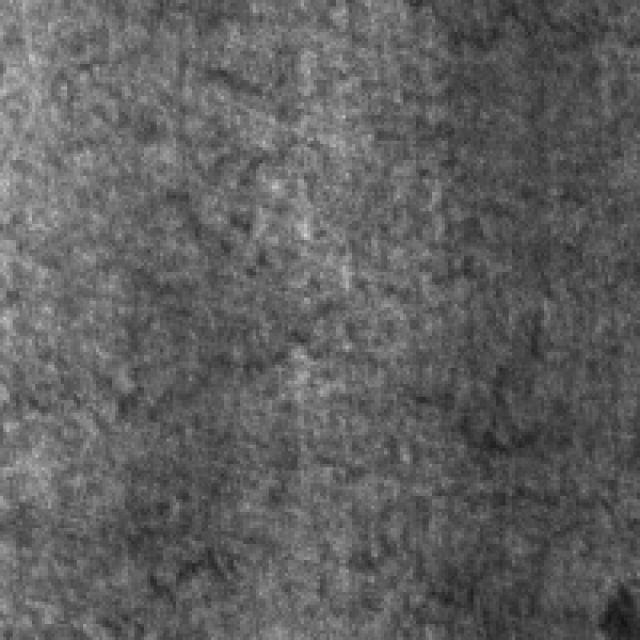crazing: (166, 282, 614, 499)
